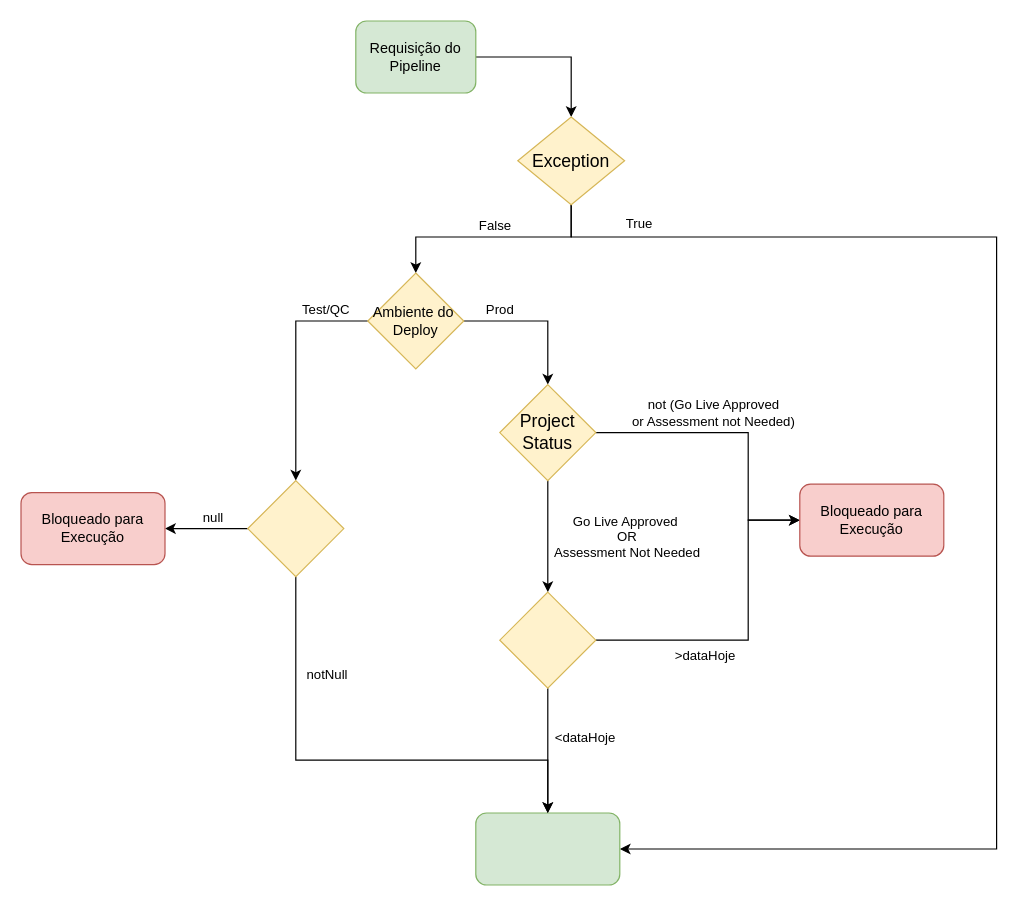
The diagram is 1027 pixels wide and 906 high, and some of its shapes have lost their labels. The centre of each missing label's shape, as x and y in pixels:
"Liberado para Execução" goes at point 547,848.
"PSA ID" goes at point 295,528.
"Target Go Live Date" goes at point 547,639.
